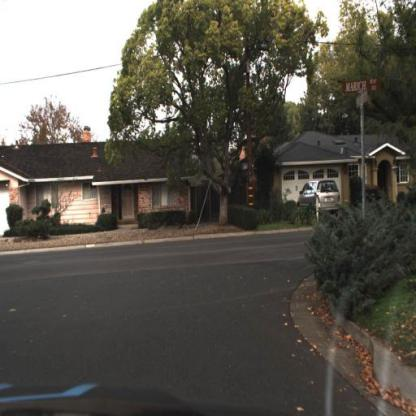car: (297, 180, 344, 217)
